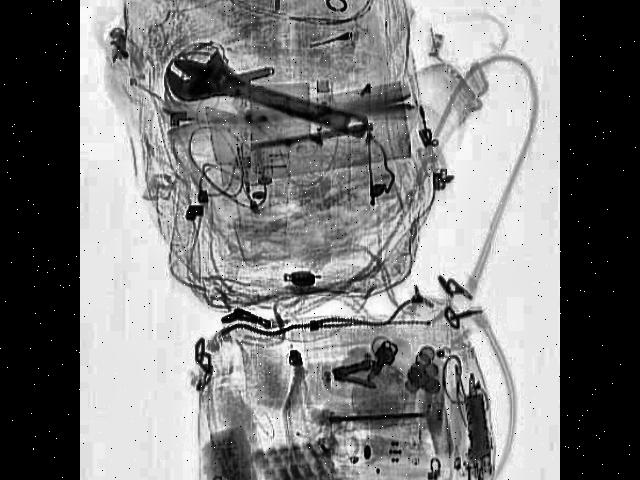Wrench: (159, 30, 369, 164)
